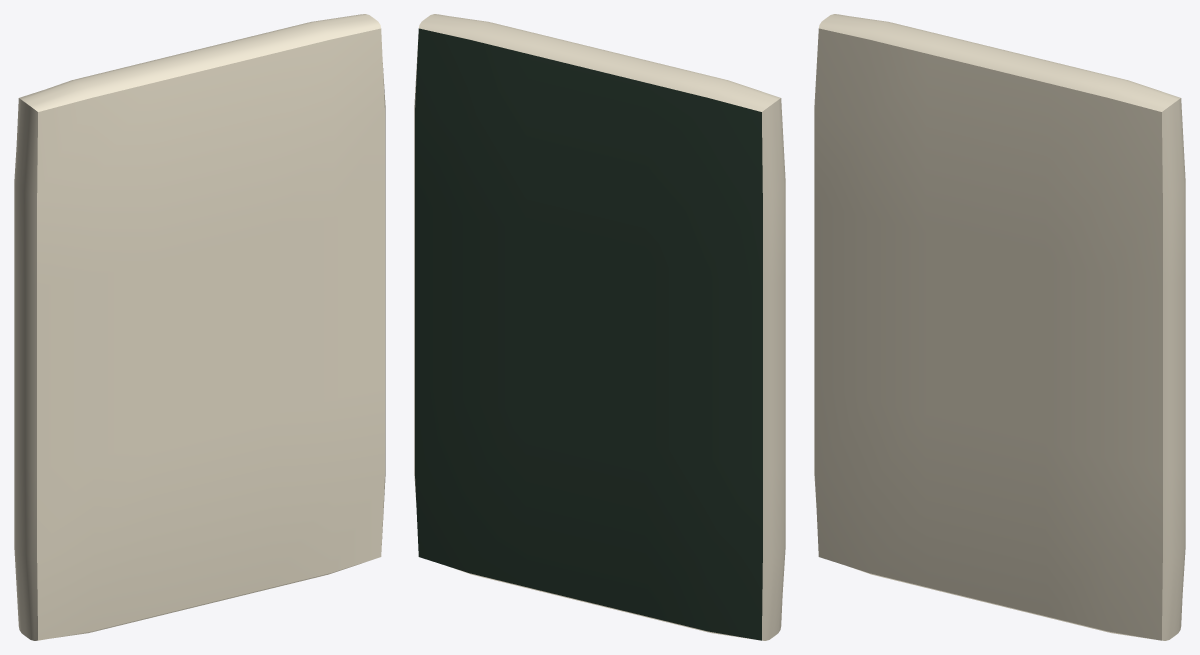
The model's file is rummikub-tile.glb.
3 renders of one model, left to right at view 1: azimuth 30°, elevation 25°; view 2: azimuth 150°, elevation 25°; view 3: azimuth 330°, elevation 25°, orthographic.
Parts seen in each view (by area): view 1: Rounded_resin_tile; view 2: Rounded_resin_tile; view 3: Rounded_resin_tile.
Part boxes in pixels (x1=…): Rounded_resin_tile: x1=14, y1=14, x2=385, y2=640; Rounded_resin_tile: x1=414, y1=14, x2=785, y2=640; Rounded_resin_tile: x1=814, y1=14, x2=1185, y2=640.
Size of the model in its own units: 0.62 by 0.9 by 0.085.
